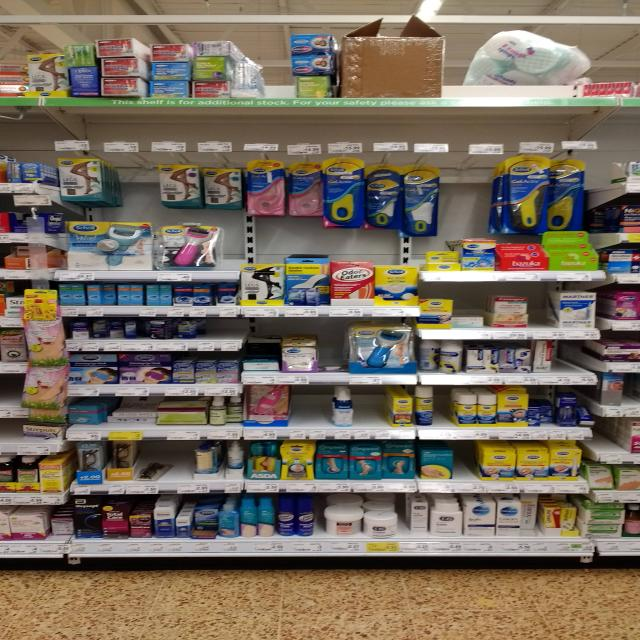empty: (288, 381, 331, 427), (149, 441, 194, 483), (354, 378, 387, 432), (553, 345, 592, 380), (321, 326, 348, 366), (1, 361, 22, 408), (526, 285, 548, 329), (1, 415, 19, 450)
